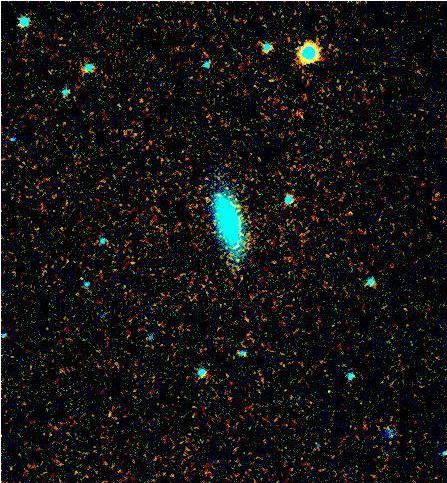star: (128, 83, 158, 113)
